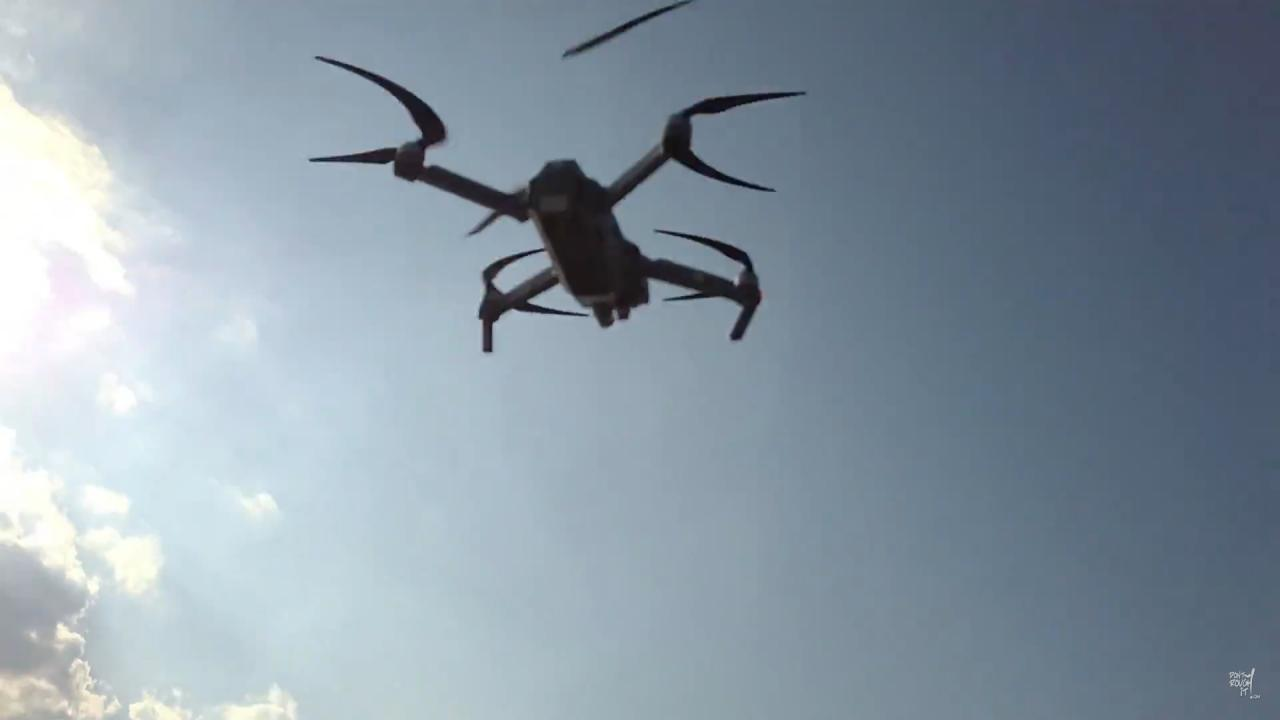Drone: (286, 35, 832, 374)
